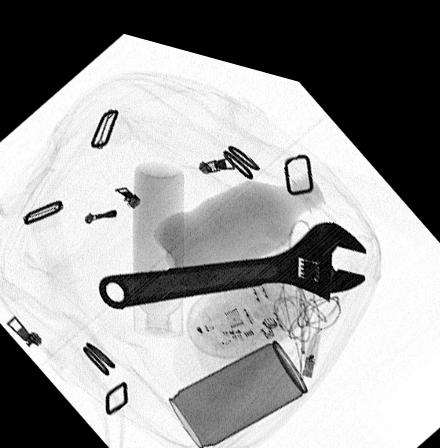Wrench: (95, 203, 368, 303)
